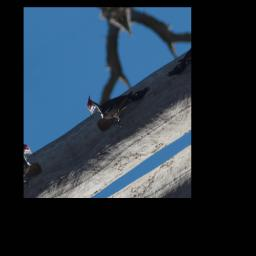Woodpecker: (81, 64, 160, 141)
